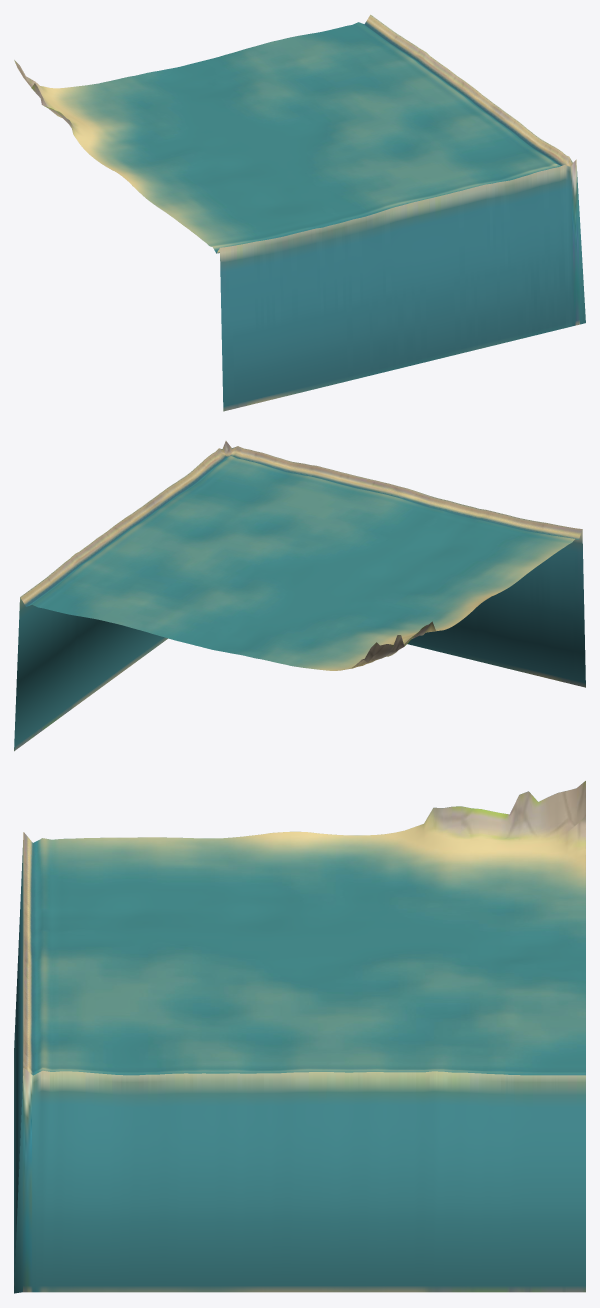
3 renders of one model, top to bottom at view 1: azimuth 30°, elevation 25°; view 2: azimuth 150°, elevation 25°; view 3: azimuth 270°, elevation 25°, orthographic. The views are drawn at different scales.
Parts seen in each view (by area): view 1: t192_000; view 2: t192_000; view 3: t192_000.
Part boxes in pixels (left/top/right/bottom): t192_000: left=14, top=14, right=585, bottom=411; t192_000: left=14, top=441, right=585, bottom=751; t192_000: left=14, top=781, right=585, bottom=1293.
Size of the model in its own units: 64 by 33.51 by 64.
1 material, 1 textured.
